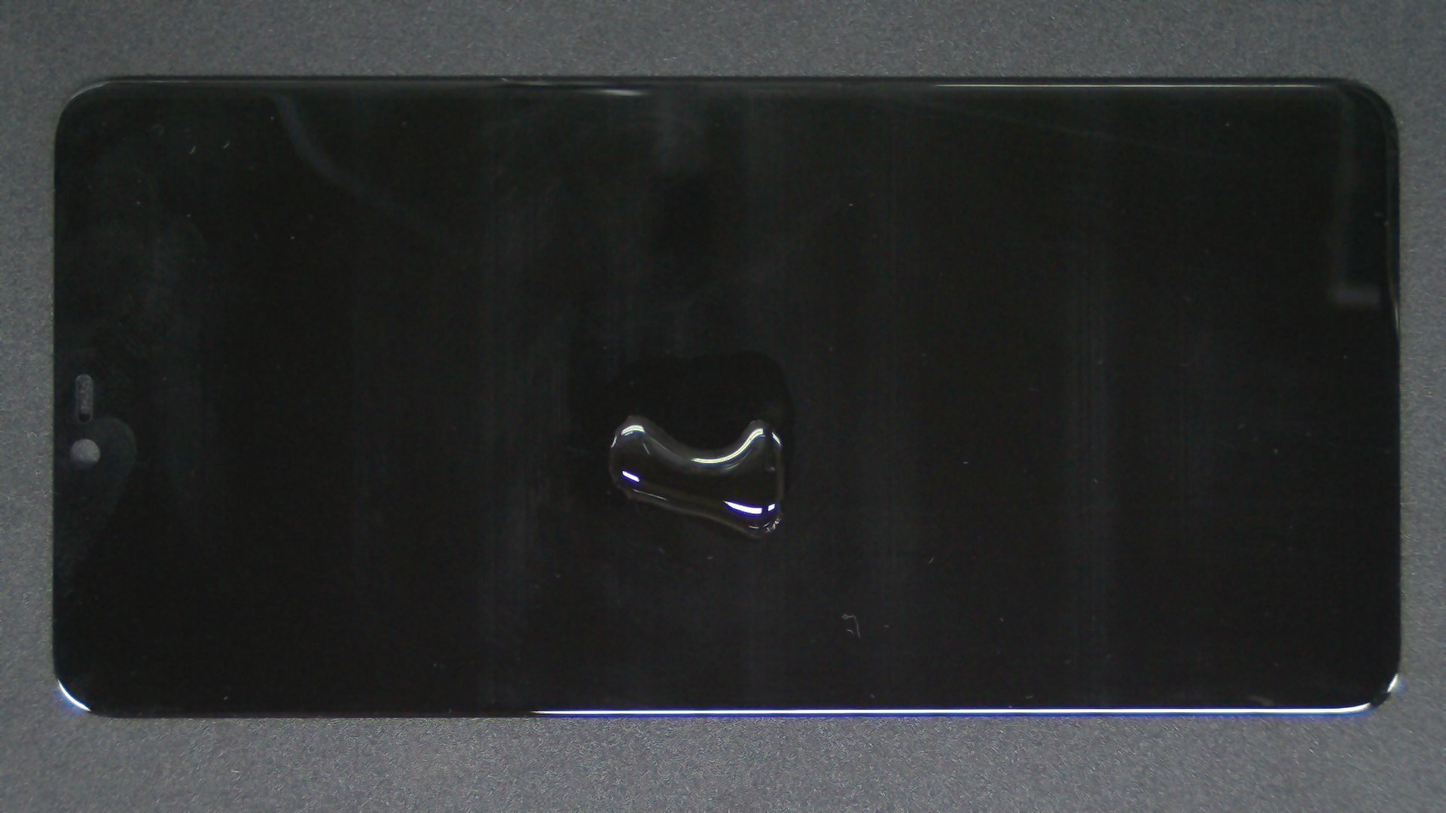oil: (565, 359, 830, 566)
